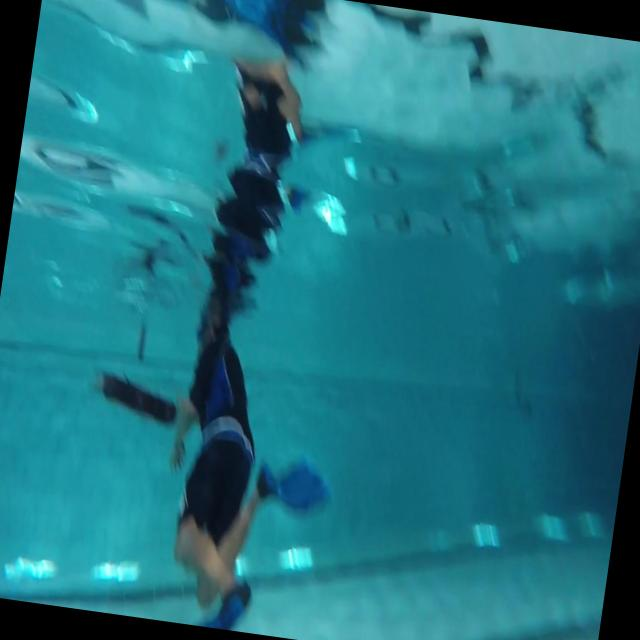human: (64, 267, 302, 634)
